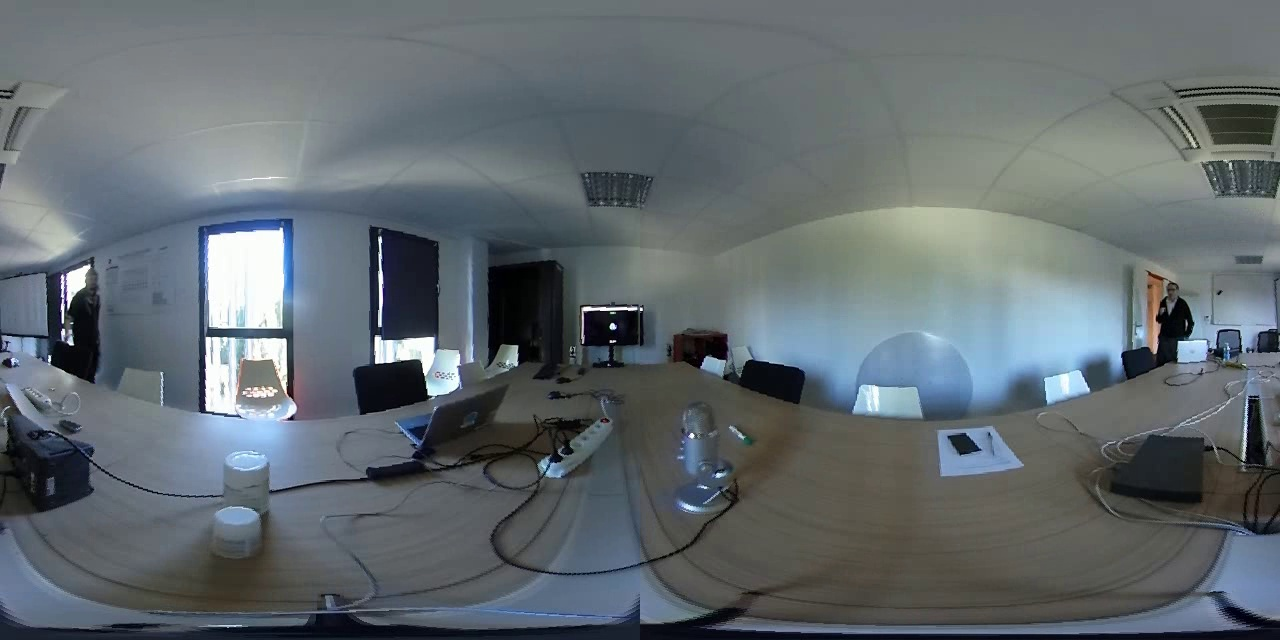person: (67, 250, 120, 371), (1146, 267, 1195, 359)
